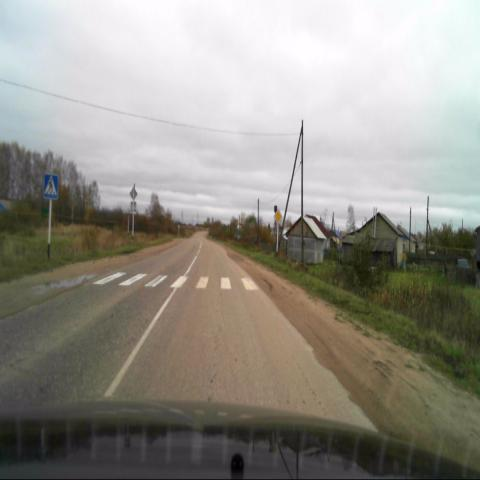2_1: (274, 208, 283, 225)
5_19_1: (43, 173, 59, 203)
